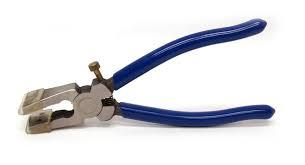pliers: (16, 17, 275, 134)
